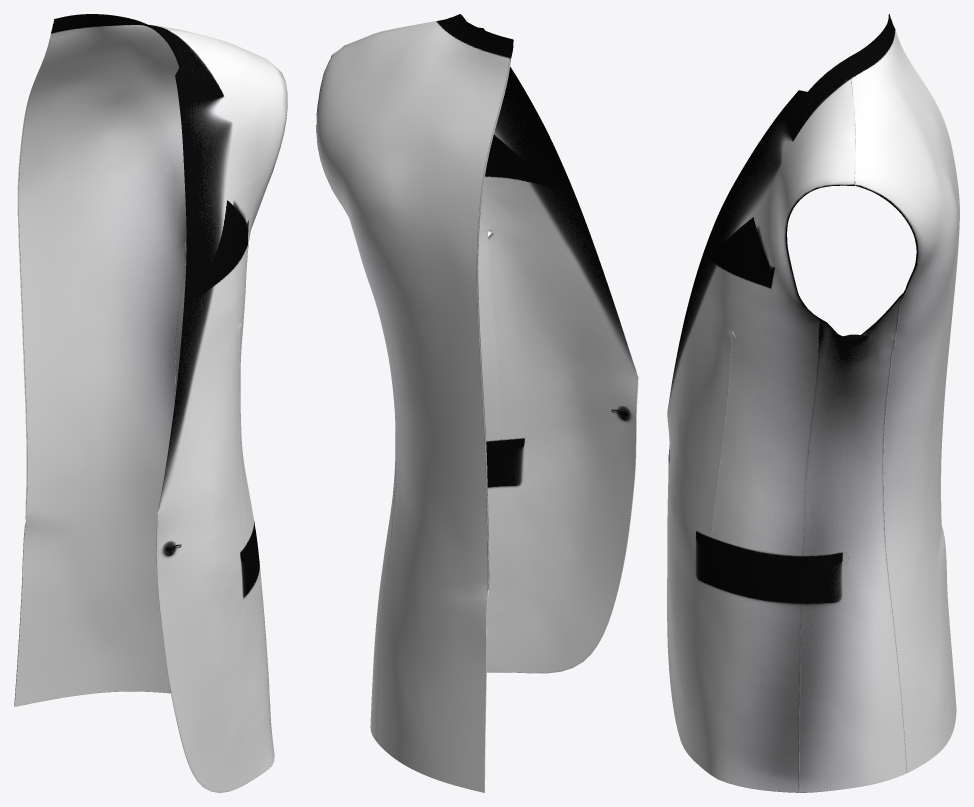
The model's file is xifudashen-L.FBX.
3 renders of one model, left to right at view 1: azimuth 30°, elevation 25°; view 2: azimuth 150°, elevation 25°; view 3: azimuth 270°, elevation 25°, orthographic. The views are drawn at different scales.
Visible parts, largest first — view 1: default001; view 2: default001; view 3: default001.
Part boxes in pixels (box(x1,y1,x2,y2)): default001: box(14, 14, 287, 792); default001: box(316, 14, 638, 792); default001: box(667, 14, 959, 792).
Bounding box in the file's own units: 21.18 × 70.23 × 26.49.
